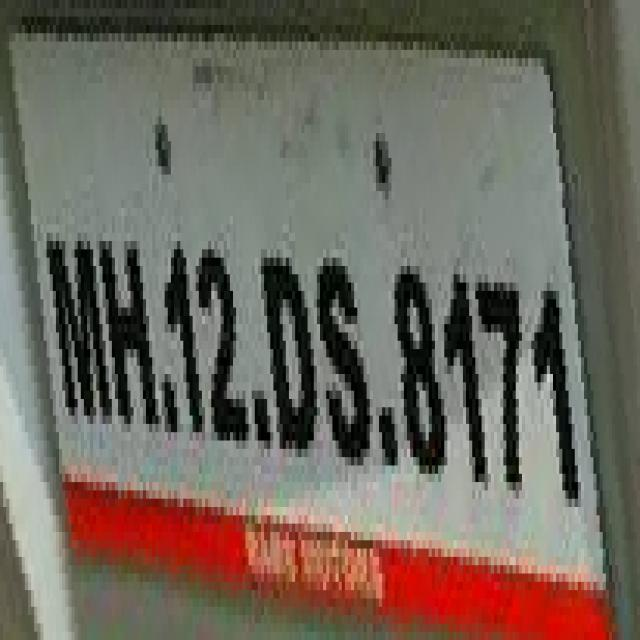license_plate: (34, 42, 628, 516)
